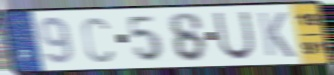5: (128, 14, 166, 63)
8: (167, 11, 209, 63)
9: (38, 15, 75, 67)
C: (80, 15, 115, 64)
K: (255, 10, 297, 59)
U: (212, 10, 257, 62)
